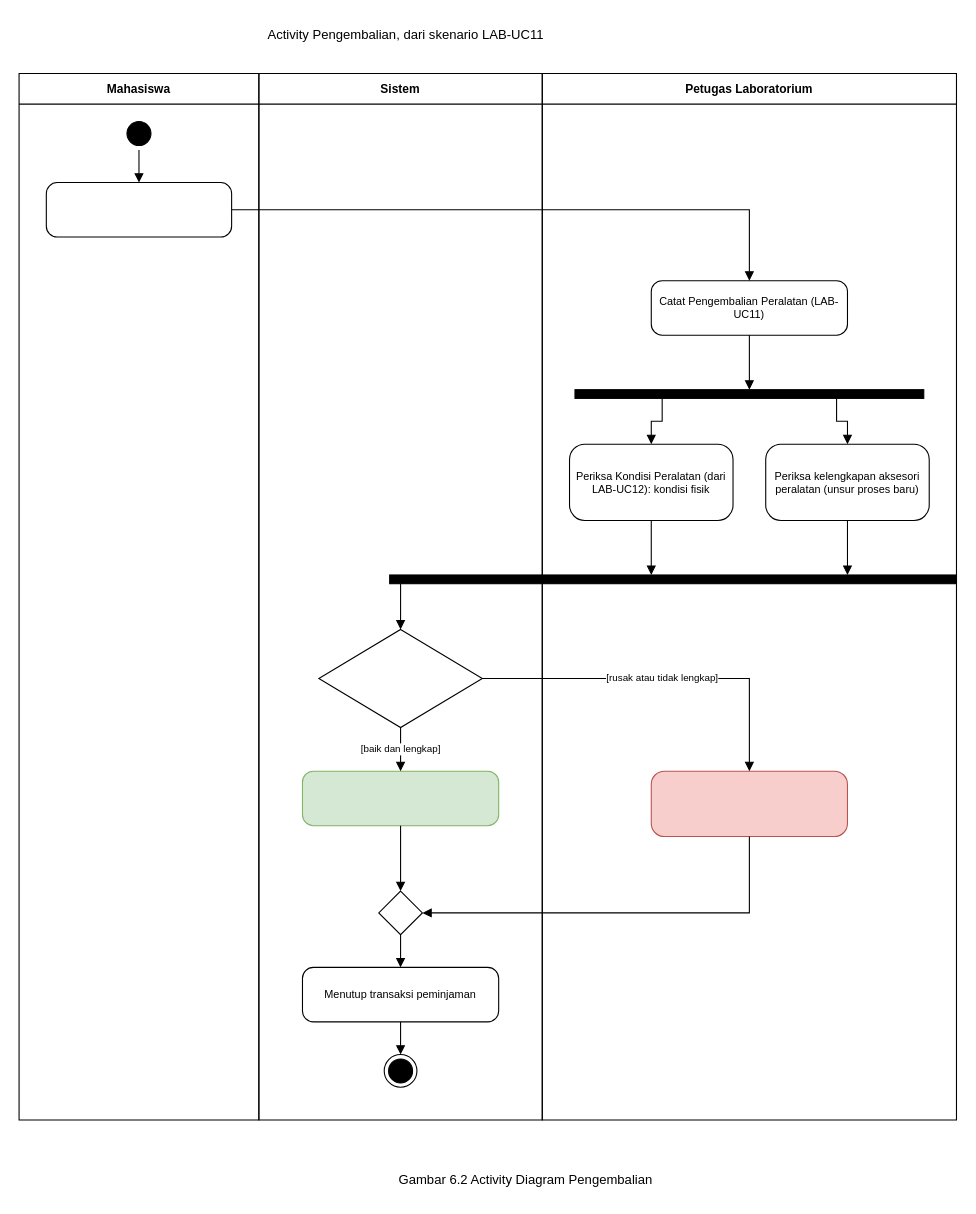
The diagram is 976 pixels wide and 1214 high, and some of its shapes have lost their labels. Here are the shapes that lost their labels. From the top down, the centre of each, then its label:
At [138,209]: "Menyerahkan peralatan yang dipinjam".
At [400,678]: "Kondisi peralatan baik dan lengkap?".
At [400,798]: "Perbarui status peralatan menjadi tersedia".
At [748,803]: "Catat kerusakan atau kekurangan dan jadwalkan perbaikan".
